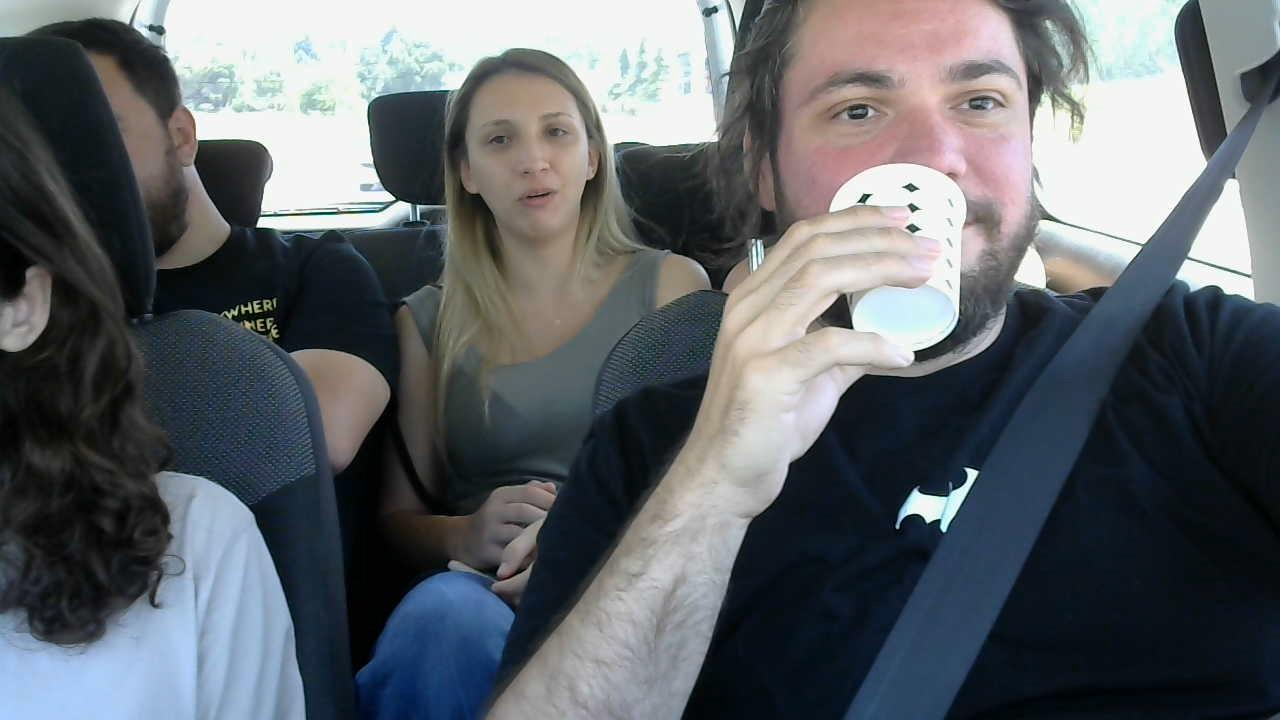Drinking: (741, 0, 1038, 406)
